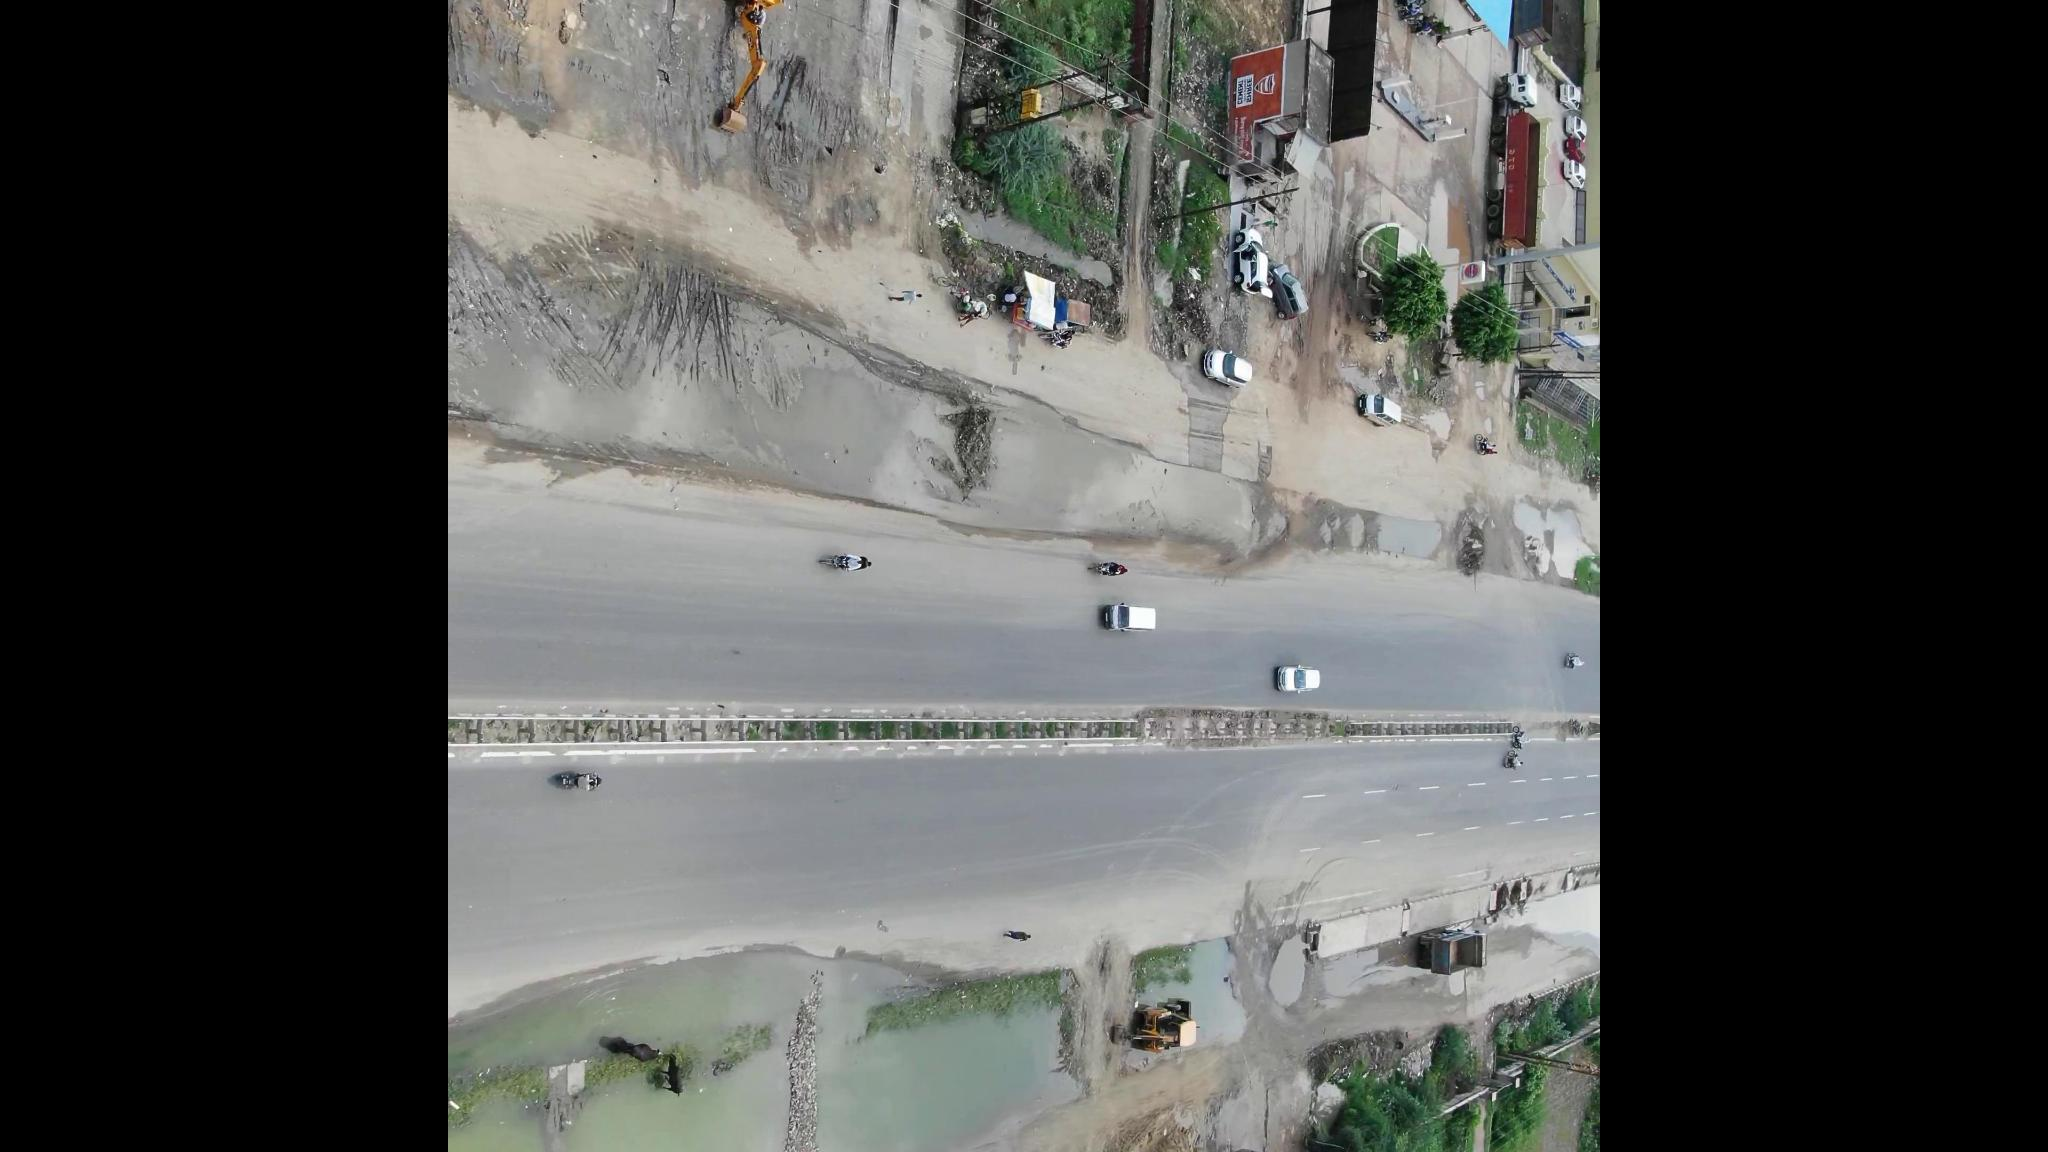Potholes: (1301, 499, 1378, 563), (1267, 921, 1312, 1013), (1257, 499, 1304, 577)
